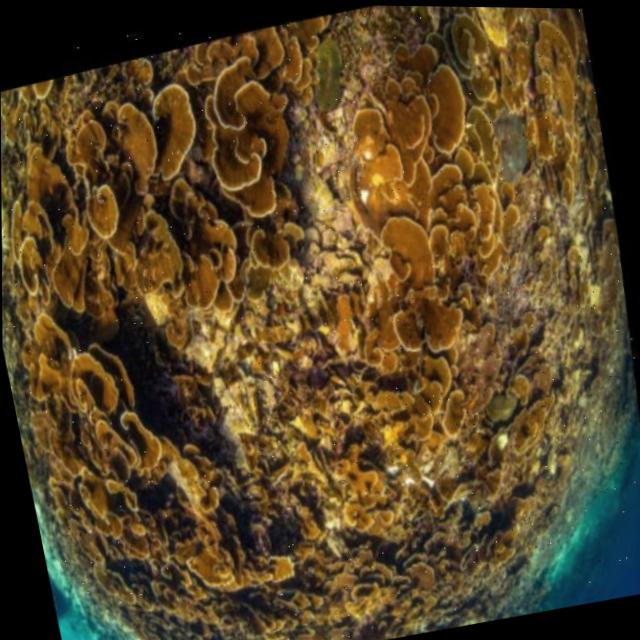Healthy Coral: (0, 23, 608, 612)
